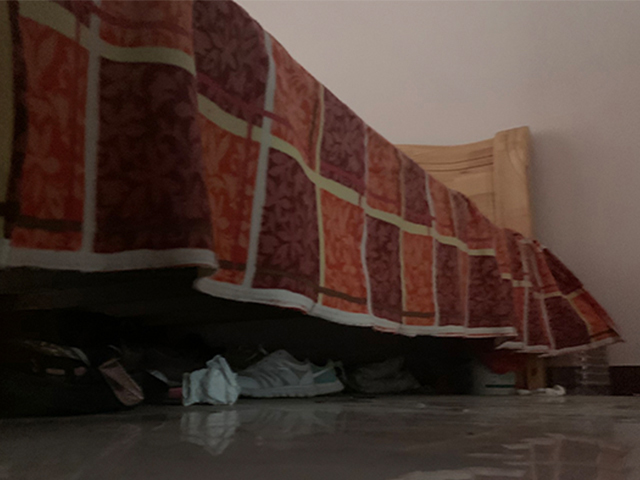bed: (1, 1, 562, 390)
